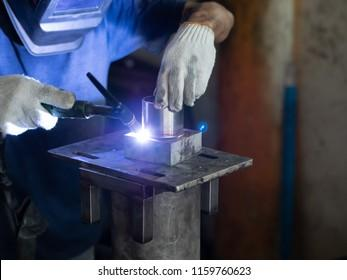gloves: (153, 22, 217, 112), (1, 75, 76, 137)
